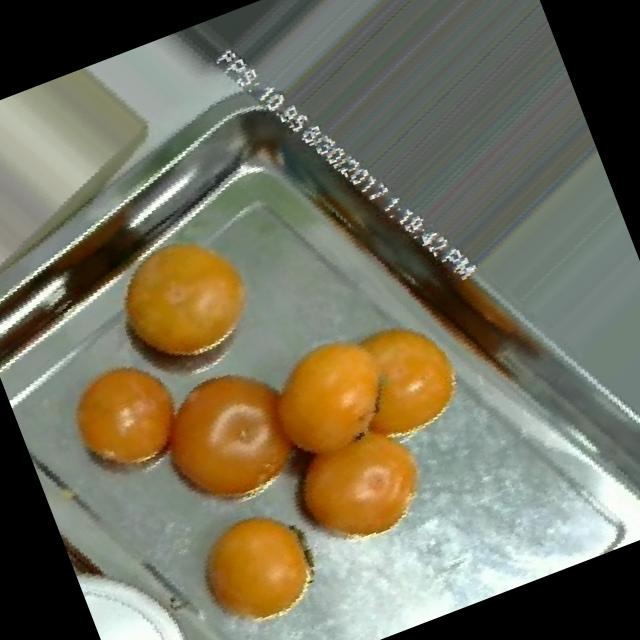Fruit: (249, 274, 501, 498), (115, 330, 348, 550), (75, 203, 288, 404), (249, 392, 460, 581), (34, 326, 216, 509), (162, 478, 348, 640)
